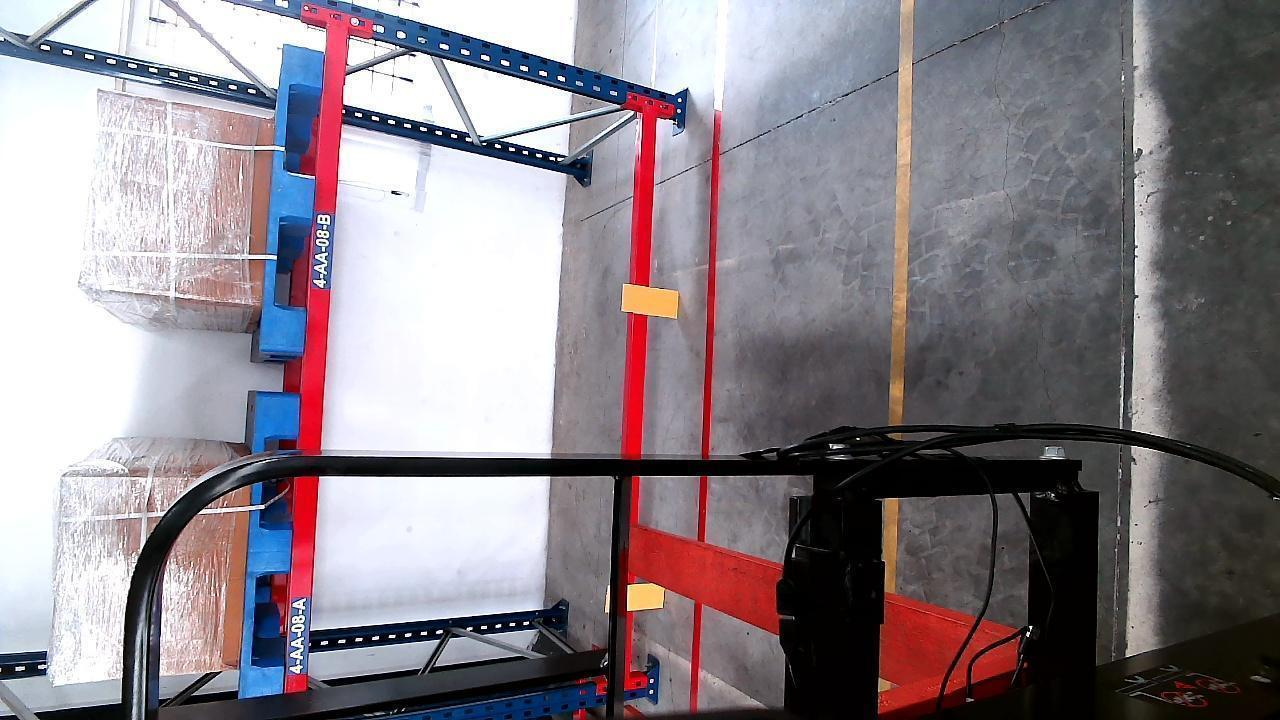red_line: (702, 82, 726, 452)
yellow_line: (888, 2, 915, 422)
